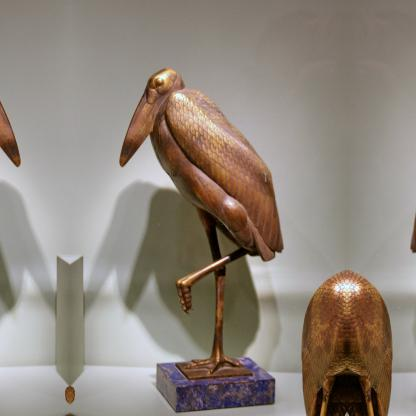Bird: (118, 68, 286, 374), (298, 267, 346, 415), (346, 267, 393, 415)
